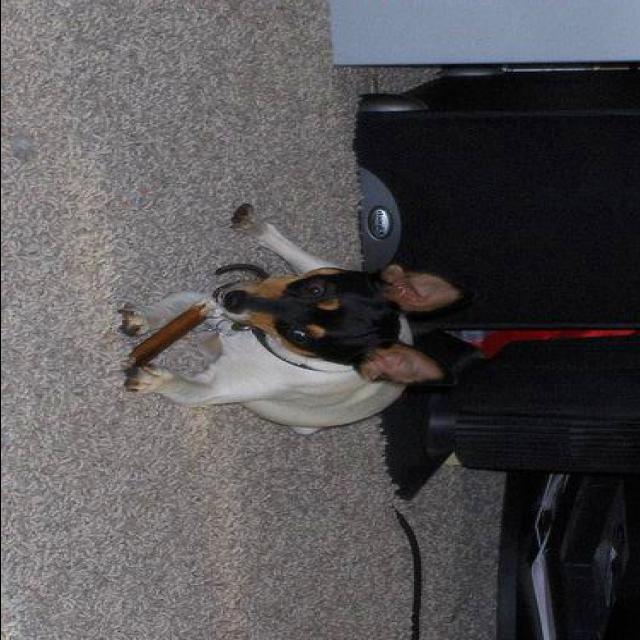toy_terrier: (102, 197, 458, 443)
